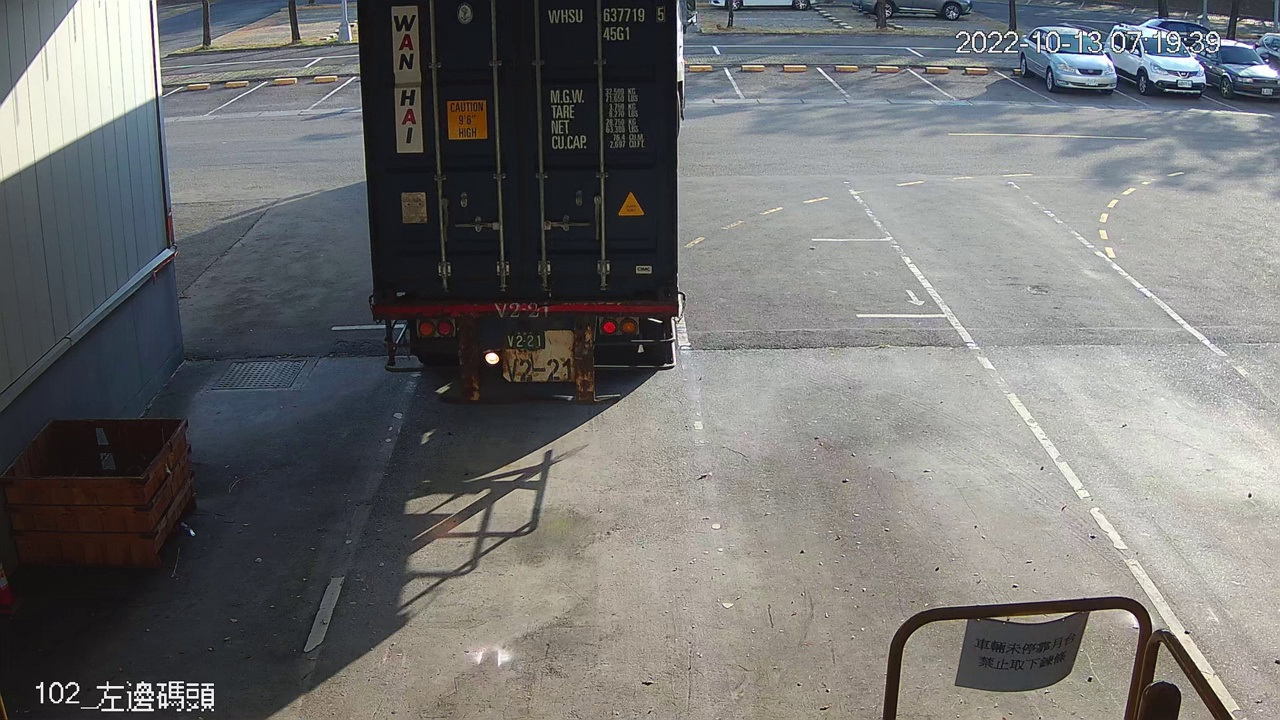container: (544, 1, 671, 48)
